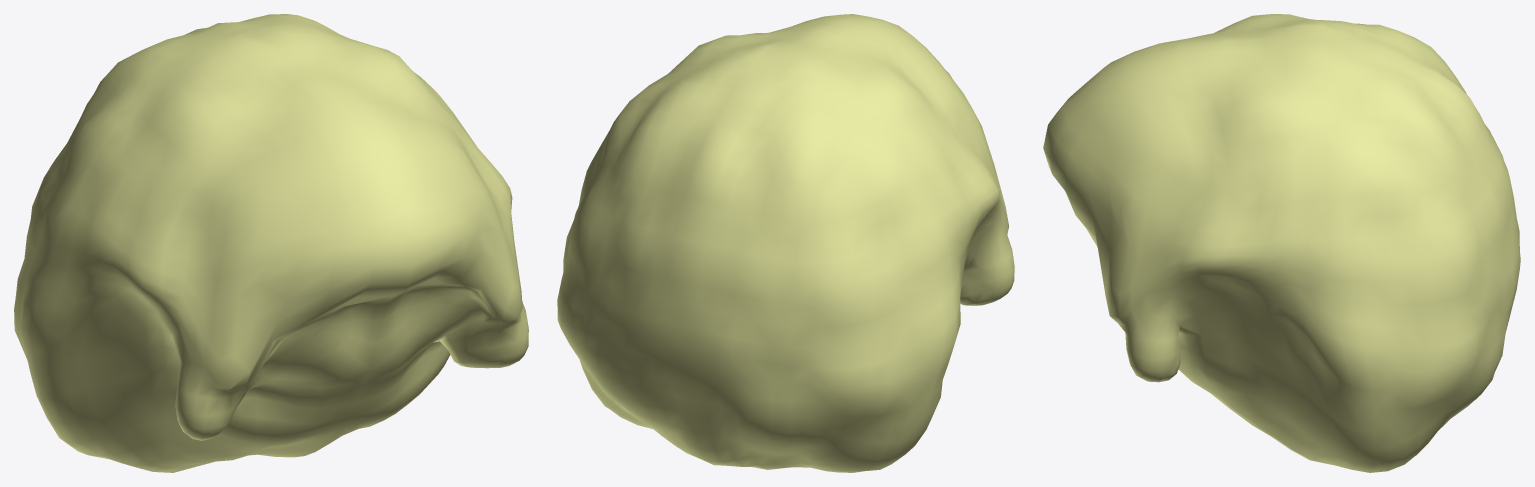
Rendered from Dandelion_Character_Hair.fbx.
The picture shows the model from 3 angles, left to right: view 1: azimuth 30°, elevation 25°; view 2: azimuth 150°, elevation 25°; view 3: azimuth 270°, elevation 25°; orthographic projection. The views are drawn at different scales.
Parts seen in each view (by area): view 1: Roundcube.001; view 2: Roundcube.001; view 3: Roundcube.001.
Boxes of the visible parts, x1=… form: Roundcube.001: x1=14, y1=14, x2=528, y2=472; Roundcube.001: x1=557, y1=14, x2=1014, y2=472; Roundcube.001: x1=1043, y1=14, x2=1520, y2=472.
Bounding box in the file's own units: 198 × 184 × 206.
